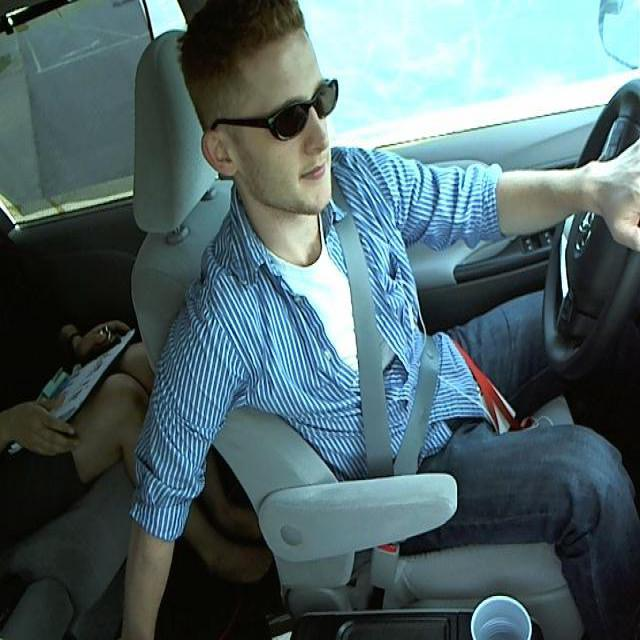seatbelt: (337, 235, 440, 472)
